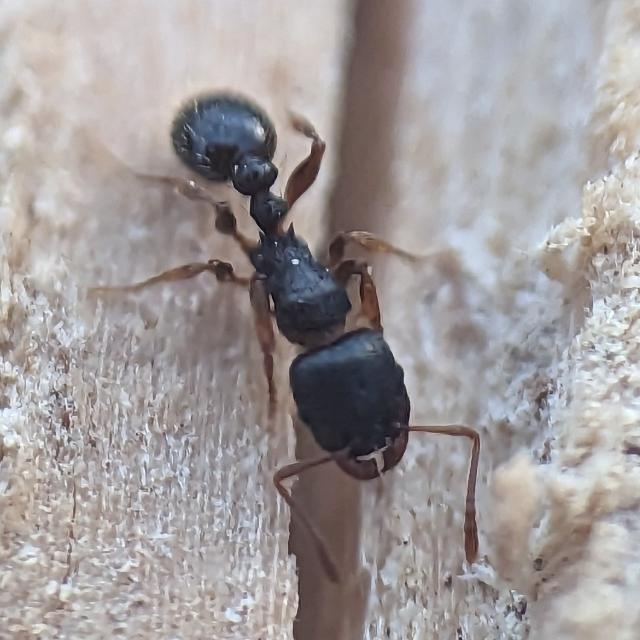Tetramorium: (98, 47, 534, 573)
